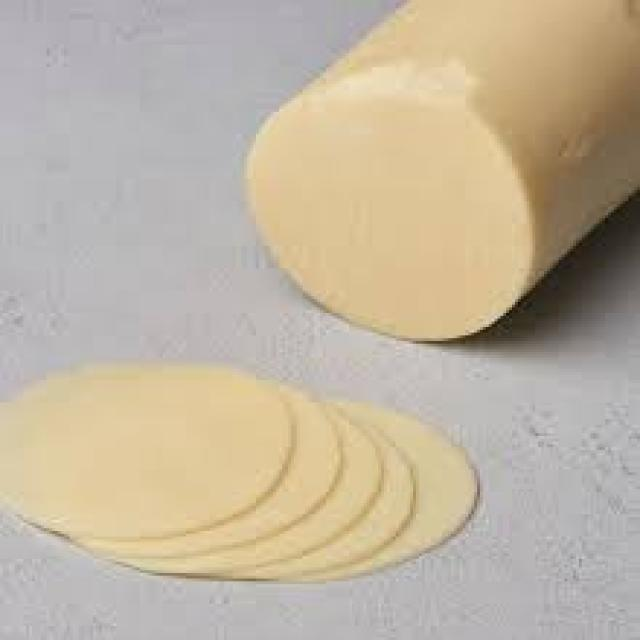cheese: (0, 363, 484, 591)
